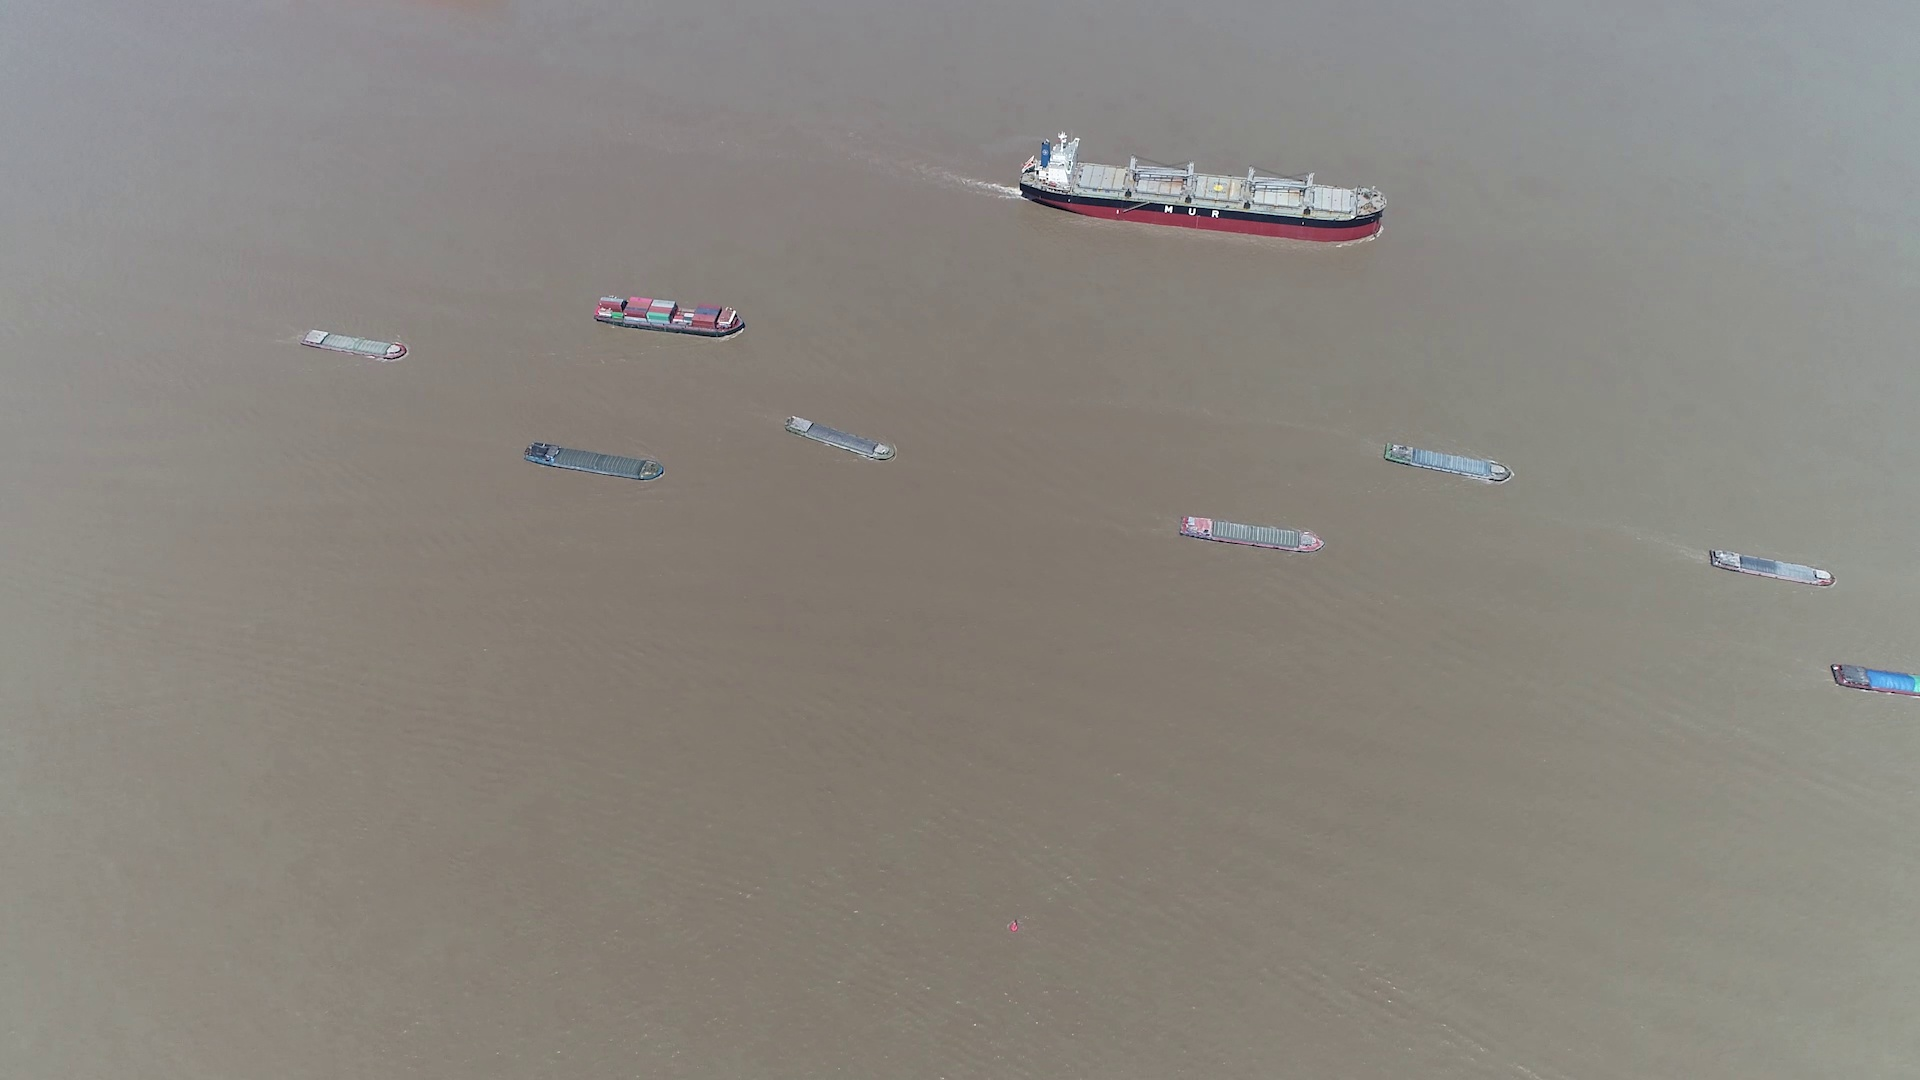ship: (1021, 140, 1385, 241), (593, 295, 746, 338), (1382, 443, 1513, 487), (524, 443, 665, 483), (1180, 514, 1325, 553), (785, 415, 895, 462), (1708, 549, 1833, 587), (299, 327, 404, 361), (1832, 663, 1919, 699)
